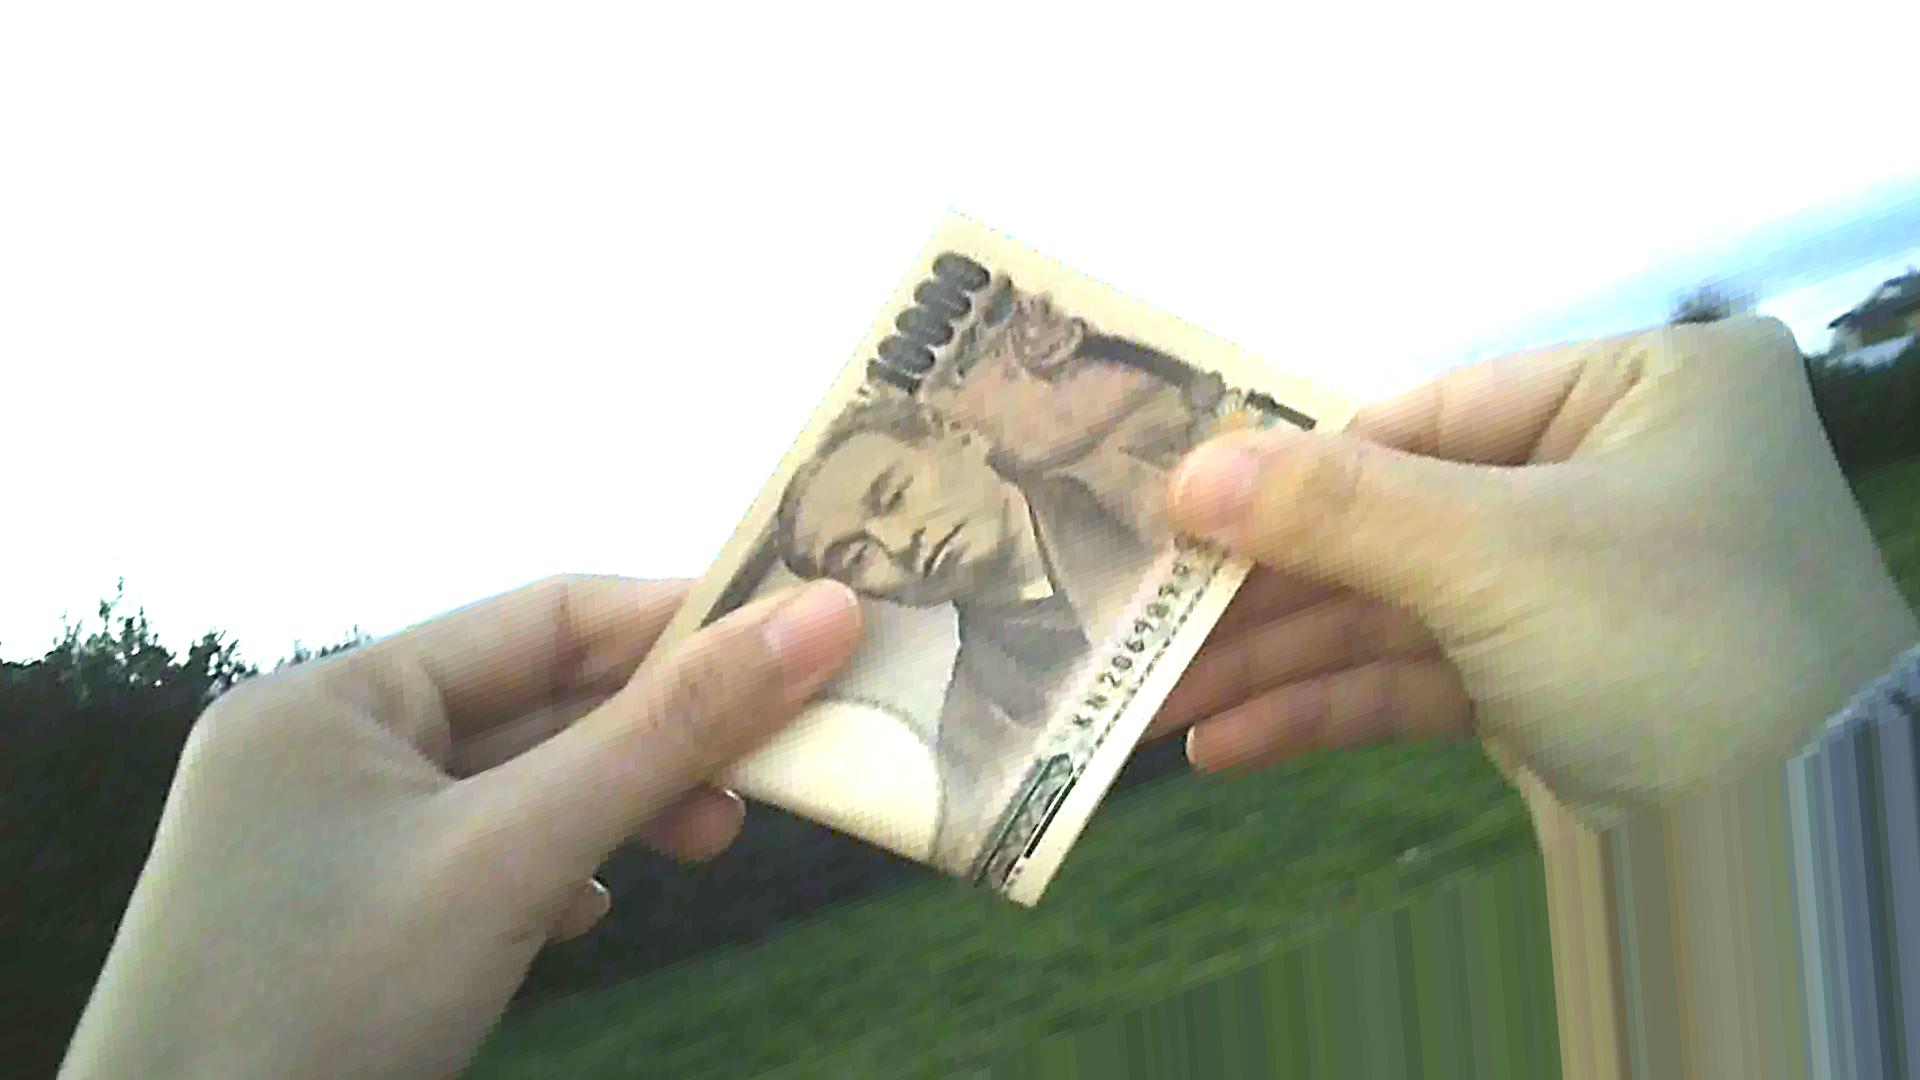10,000 Yen: (616, 211, 1309, 930)
